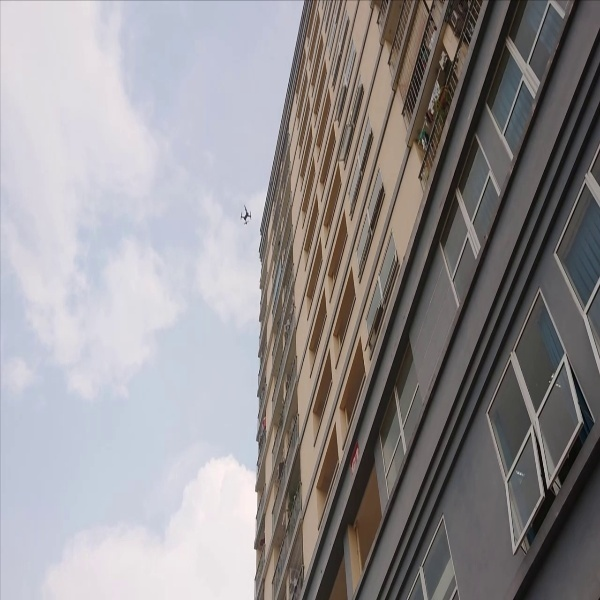drone: (238, 202, 256, 225)
